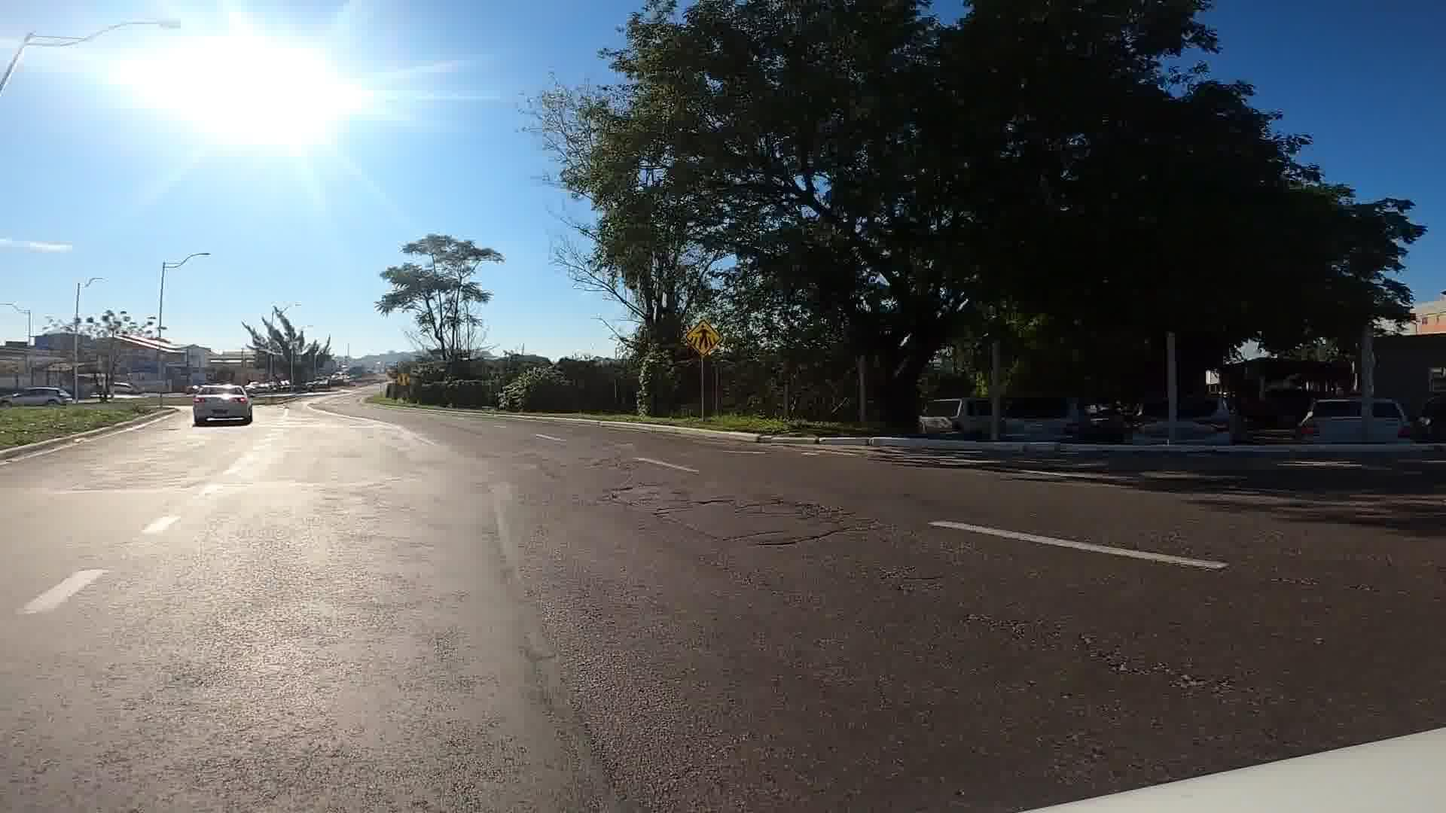A-32b: (682, 318, 728, 361)
